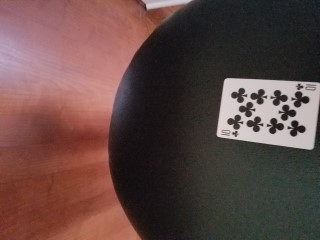TenOfClubs: (216, 76, 319, 151)
